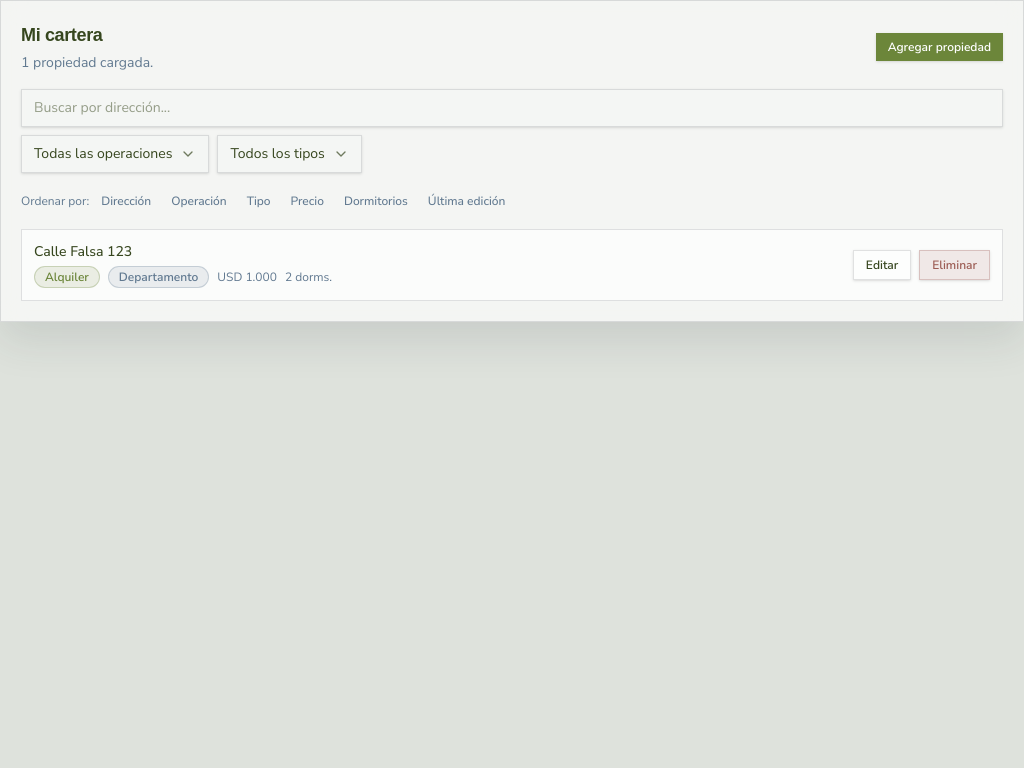
Test: PropertiesTable (KAN-273) › eliminar pide confirmación (modal propio) y hace DELETE
The image size is (1024, 768).
Expected: the text "Calle Falsa 123" is shown, [34, 242, 132, 261]
Click the button "Eliminar". click: (955, 265)
box: [919, 250, 990, 280]
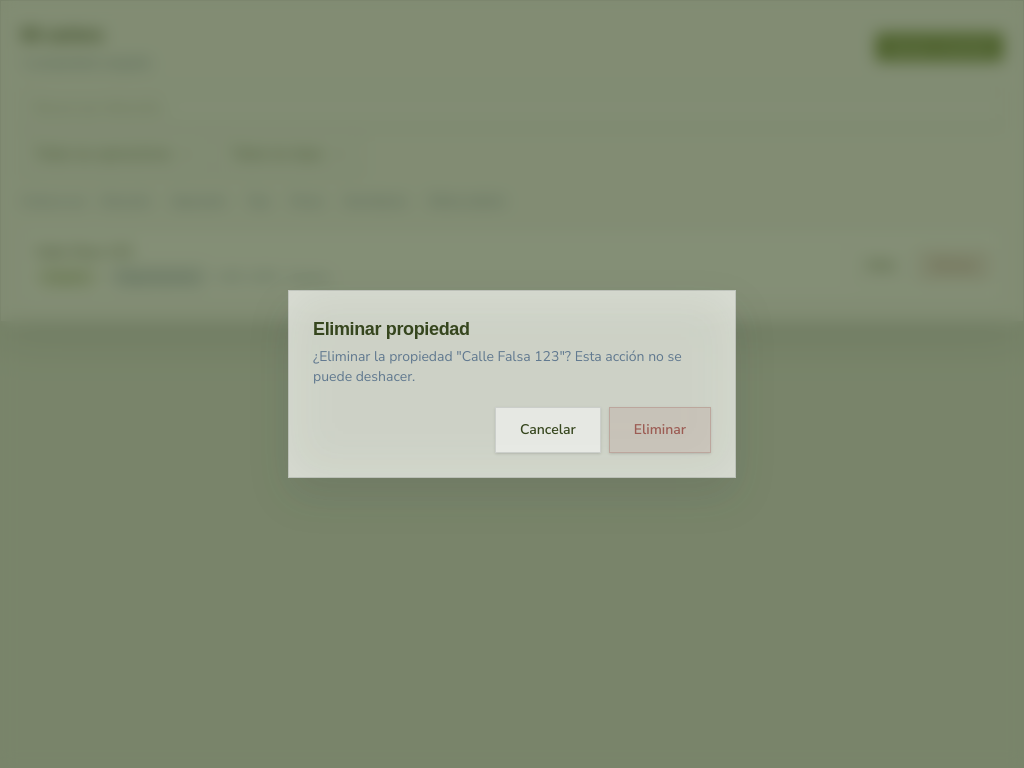
Click the button "Eliminar". click: (660, 430)
box: [609, 407, 711, 453]
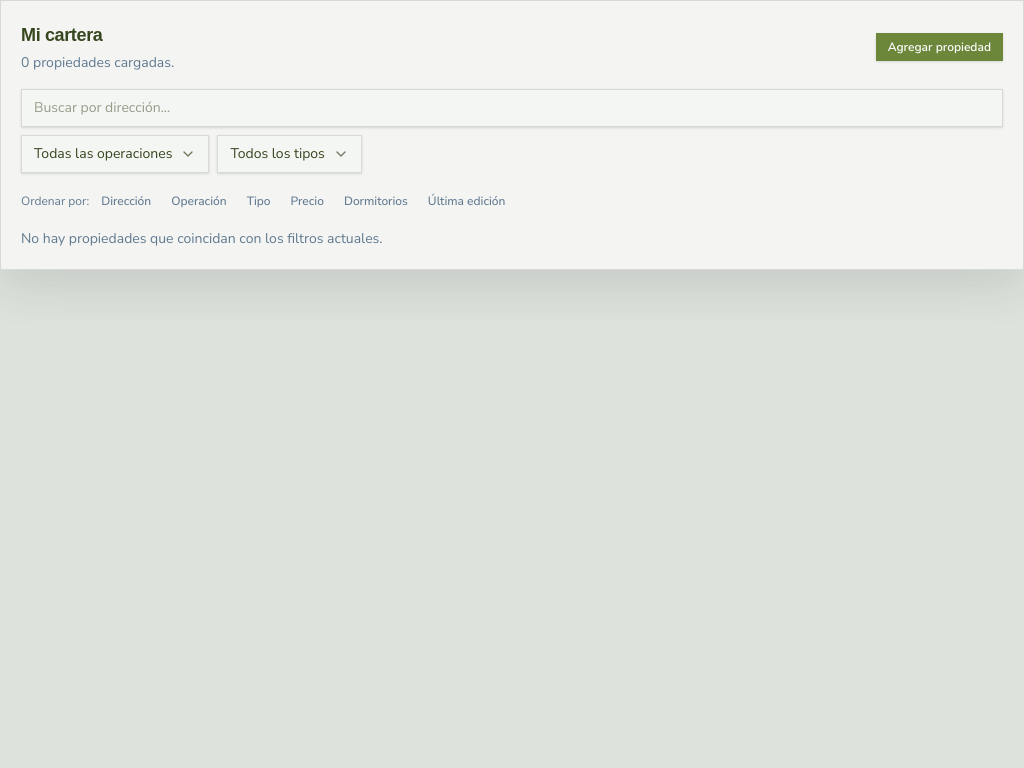
Expected: the text "Calle Falsa 123" is gone
